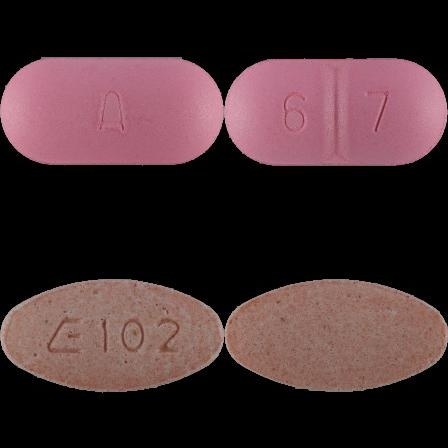67296-0627: (0, 0, 224, 224)
